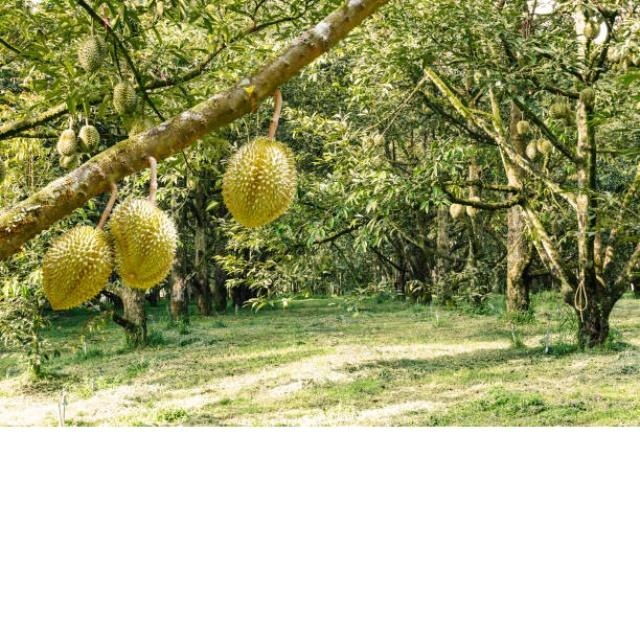sau_rieng: (102, 182, 195, 297), (208, 129, 305, 226), (42, 212, 118, 310)
